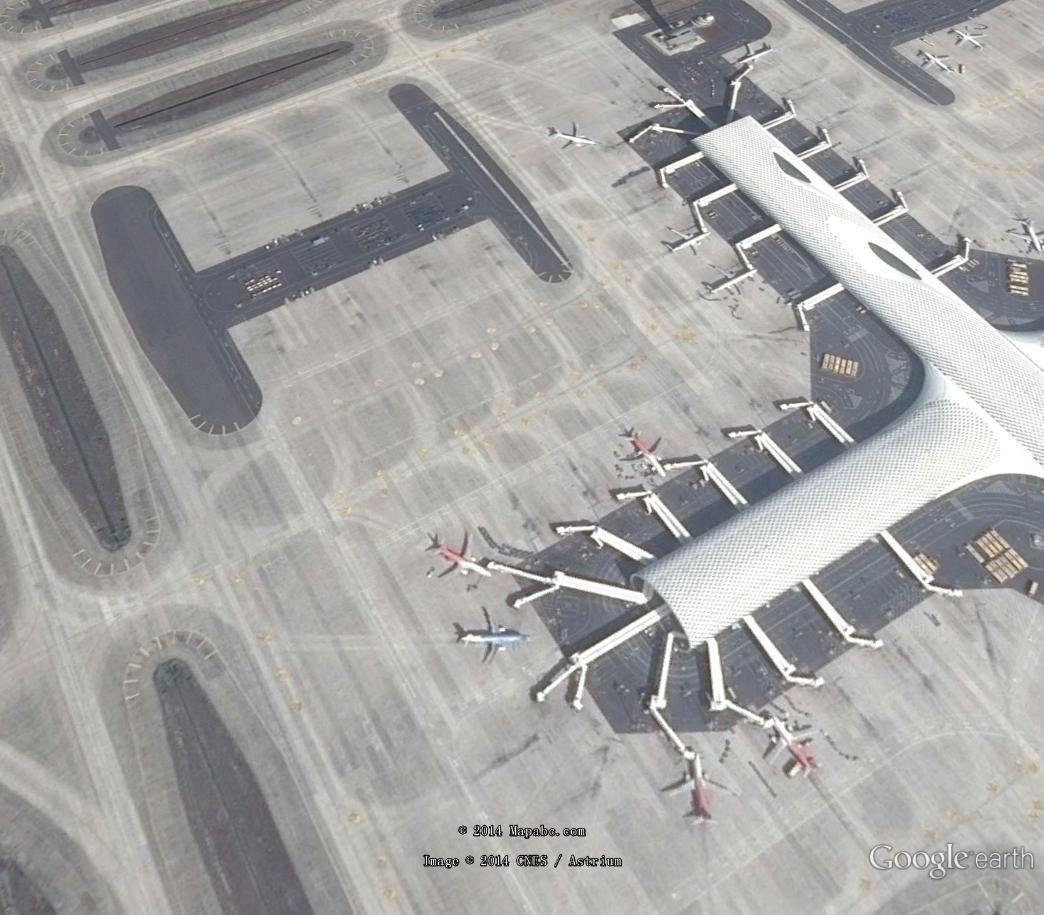aircraft: (658, 750, 744, 828), (451, 604, 535, 673), (763, 708, 828, 783), (421, 529, 498, 586), (618, 420, 669, 483), (703, 261, 760, 304), (544, 117, 604, 156), (663, 219, 709, 265), (1008, 216, 1041, 261), (735, 39, 780, 70), (951, 25, 990, 57), (919, 46, 954, 76)
